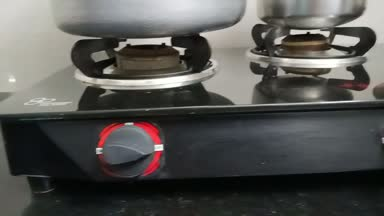flame_gas_off: (60, 32, 217, 186)
